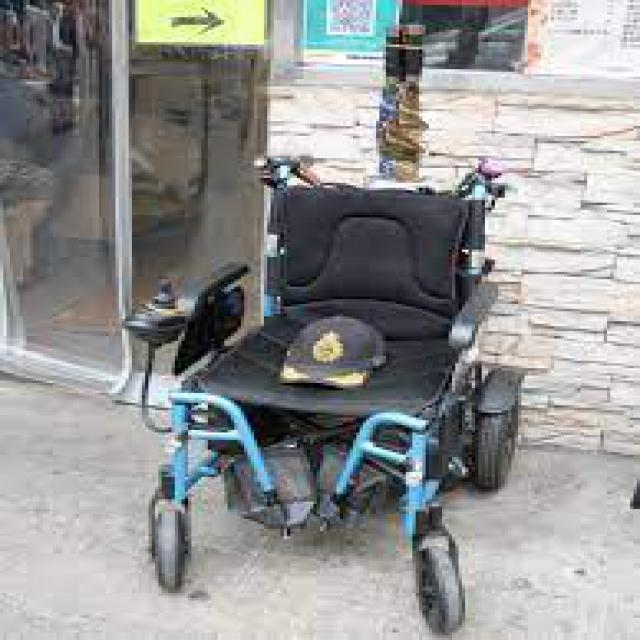wheelchair: (119, 143, 522, 633)
